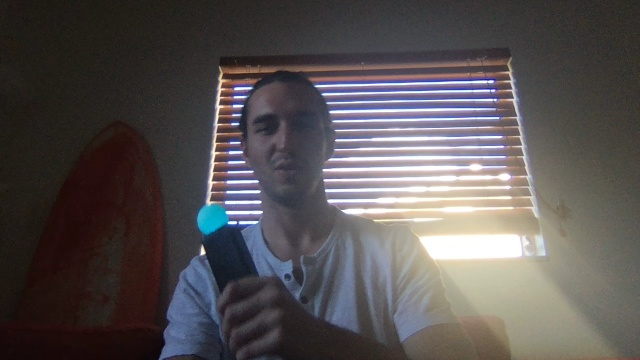wand: (199, 205, 227, 233)
